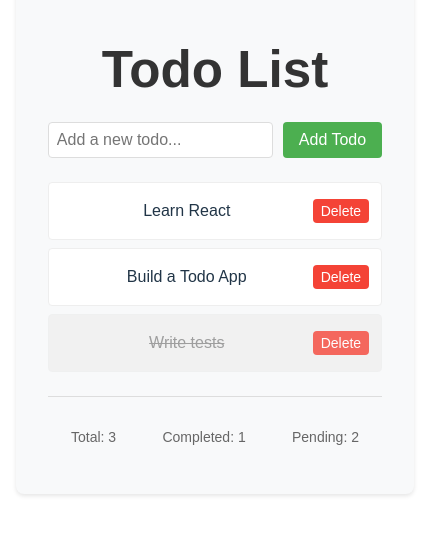
Test: TodoList Component › adds a new todo when form is submitted
This screenshot has width=431, height=546.
Type "New Test Todo" into the field with test id "todo-input" at (160, 140), box top-left (48, 122), bottom-right (273, 158)
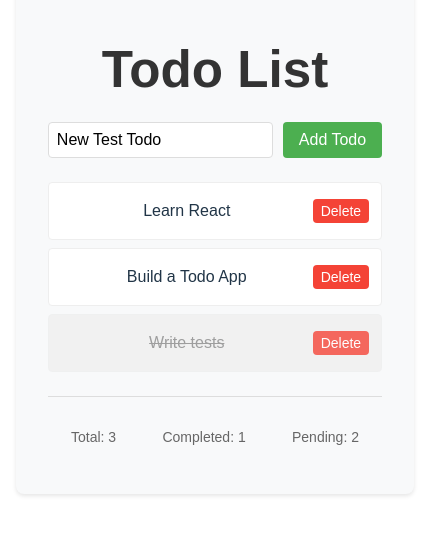
// Submit the form
Click the button with test id "add-button" at (332, 140), box top-left (283, 122), bottom-right (382, 158)
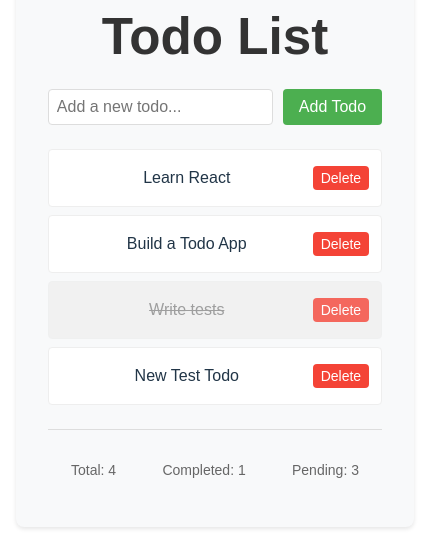
Now the text "New Test Todo" is shown, box top-left (135, 367), bottom-right (239, 384)
Now the text "Total: 4" is shown, box top-left (71, 460), bottom-right (116, 481)
Now the text "Pending: 3" is shown, box top-left (292, 460), bottom-right (359, 481)
